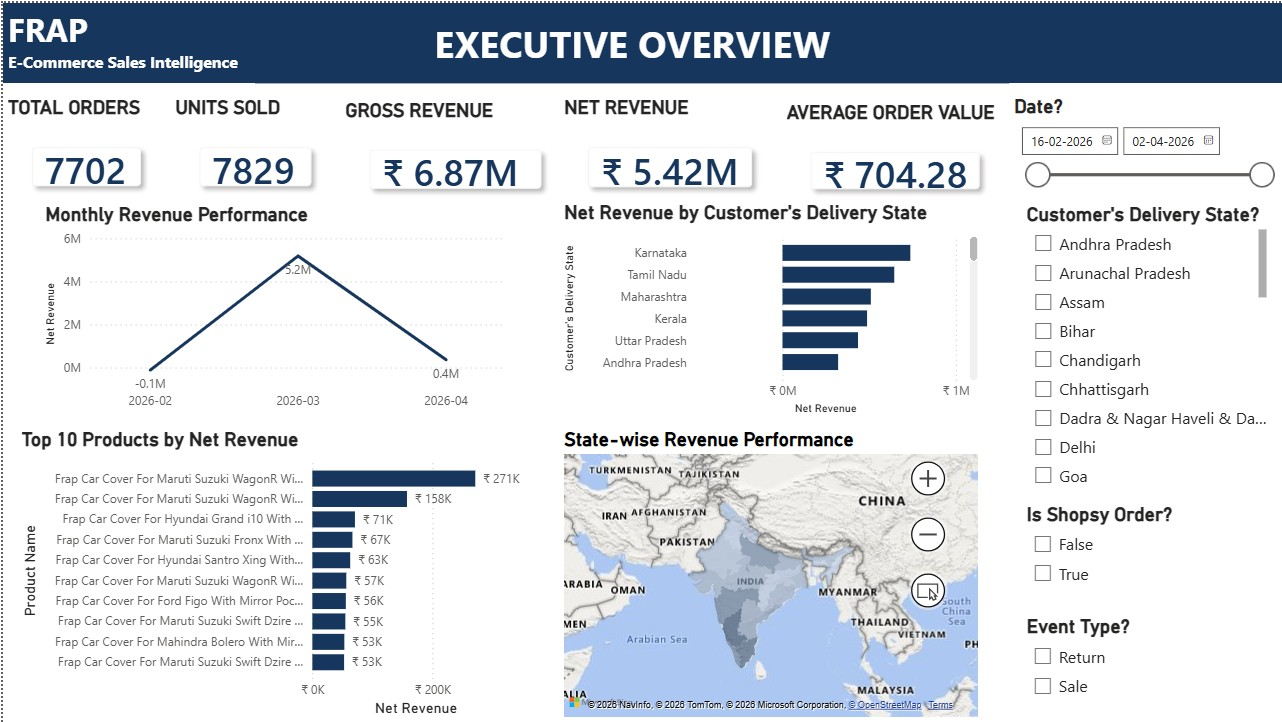

This screenshot's page, from the dashboard's own definition file:
{"tool":"powerbi","page":{"name":"Executive Overview","canvas":[1280,720],"ordinal":0},"visuals":[{"type":"shape","box":[0,0,1280,80],"z":0},{"type":"textbox","box":[0,0,300,95.4],"z":1000},{"type":"slicer","title":"Date?","fields":{"Values":["DateTable.Date"]},"box":[1006.2,92.5,273.8,105],"z":2000},{"type":"cardVisual","title":"UNITS SOLD","fields":{"Data":["Sales.Units Sold"]},"box":[167.7,94.1,170.4,118.6],"z":3000},{"type":"cardVisual","title":"TOTAL ORDERS","fields":{"Data":["Sales.Total Orders"]},"box":[0,93.8,167.5,118.8],"z":4000},{"type":"cardVisual","title":"GROSS REVENUE","fields":{"Data":["Sales.Gross Revenue"]},"box":[337.5,96.2,230,118.8],"z":5000},{"type":"cardVisual","title":"NET REVENUE","fields":{"Data":["Sales.Net Revenue"]},"box":[556.2,93.8,222.5,120],"z":6000},{"type":"cardVisual","title":"AVERAGE ORDER VALUE","fields":{"Data":["Sales.AOV"]},"box":[778.8,98.8,227.5,117.5],"z":7000},{"type":"lineChart","title":"Monthly Revenue Performance","fields":{"Y":["Sales.Net Revenue"],"Category":["DateTable.Year Month"]},"box":[37.5,200,470,216.2],"z":8000},{"type":"clusteredBarChart","title":"Top 10 Products by Net Revenue ","fields":{"Y":["Sales.Net Revenue"],"Category":["Sales.Product Name"]},"box":[13.8,425,527.5,293.8],"z":9000},{"type":"filledMap","title":"State-wise Revenue Performance ","fields":{"Category":["Sales.Customer's Delivery State","Sales.Country"]},"box":[556.2,425,423.8,293.8],"z":10000},{"type":"clusteredBarChart","fields":{"Category":["Sales.Customer's Delivery State"],"Y":["Sales.Net Revenue"]},"box":[556.2,198.8,423.8,217.5],"z":11000},{"type":"slicer","title":"Customer''s Delivery State?","fields":{"Values":["Sales.Customer's Delivery State"]},"box":[1018.8,200,250,291.2],"z":12000},{"type":"slicer","title":"Is Shopsy Order?","fields":{"Values":["Sales.Is Shopsy Order?"]},"box":[1018.8,500,250,95],"z":13000},{"type":"slicer","title":"Event Type?","fields":{"Values":["Sales.Event Type"]},"box":[1018.8,612.5,250,96.2],"z":14000},{"type":"textbox","box":[252.5,10,753.8,70],"z":15000}]}

Visuals, with their boxes in screenshot pixels (x1, y1, x2, y2), scaled from the page's 1280x720 canvas onto the 1282x722 screenshot:
shape: <region>0, 0, 1281, 80</region>
textbox: <region>0, 0, 300, 96</region>
"Date?" slicer: <region>1008, 93, 1281, 198</region>
"UNITS SOLD" cardVisual: <region>168, 94, 339, 213</region>
"TOTAL ORDERS" cardVisual: <region>0, 94, 168, 213</region>
"GROSS REVENUE" cardVisual: <region>338, 96, 568, 216</region>
"NET REVENUE" cardVisual: <region>557, 94, 780, 214</region>
"AVERAGE ORDER VALUE" cardVisual: <region>780, 99, 1008, 217</region>
"Monthly Revenue Performance" lineChart: <region>38, 201, 508, 417</region>
"Top 10 Products by Net Revenue " clusteredBarChart: <region>14, 426, 542, 721</region>
"State-wise Revenue Performance " filledMap: <region>557, 426, 982, 721</region>
clusteredBarChart - Sales.Customer's Delivery State x Sales.Net Revenue: <region>557, 199, 982, 417</region>
"Customer''s Delivery State?" slicer: <region>1020, 201, 1271, 493</region>
"Is Shopsy Order?" slicer: <region>1020, 501, 1271, 597</region>
"Event Type?" slicer: <region>1020, 614, 1271, 711</region>
textbox: <region>253, 10, 1008, 80</region>
